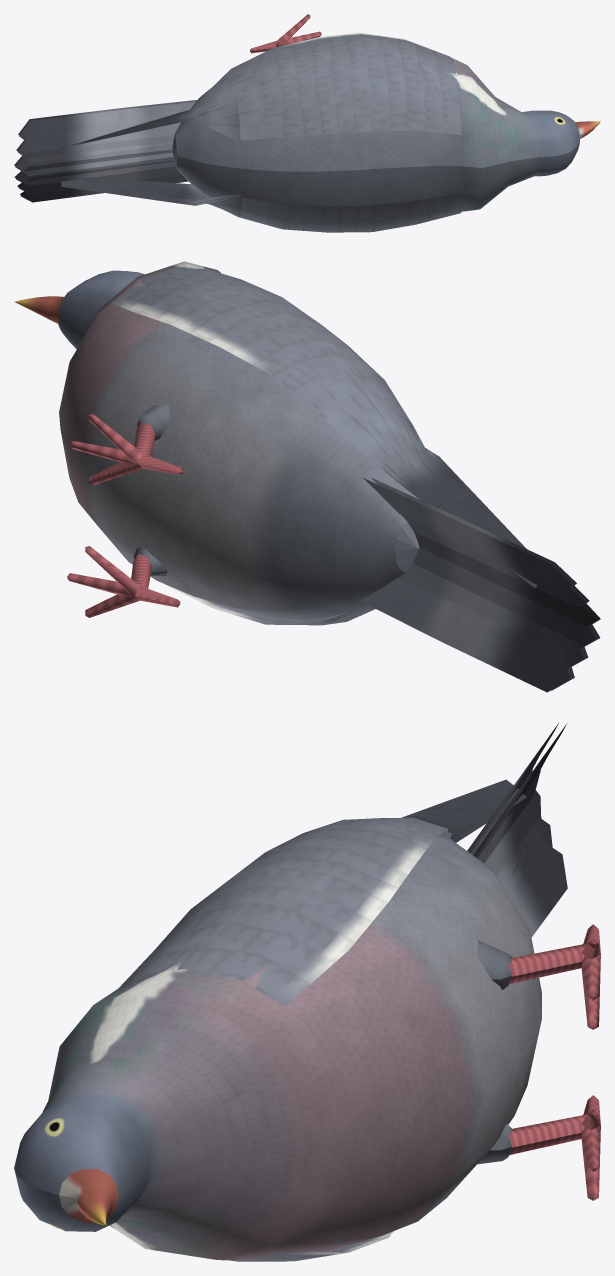
The model's file is bird_woodpigeon.obj.
3 renders of one model, top to bottom at view 1: azimuth 30°, elevation 25°; view 2: azimuth 150°, elevation 25°; view 3: azimuth 270°, elevation 25°, orthographic. The views are drawn at different scales.
Parts seen in each view (by area): view 1: bird_woodpigeon; view 2: bird_woodpigeon; view 3: bird_woodpigeon.
Boxes of the visible parts, <box> form: bird_woodpigeon: <box>14,14,600,232</box>; bird_woodpigeon: <box>14,261,600,692</box>; bird_woodpigeon: <box>14,723,600,1261</box>.
Bounding box in the file's own units: 0.4016 × 0.1458 × 0.2129.
1 material, 1 textured.
